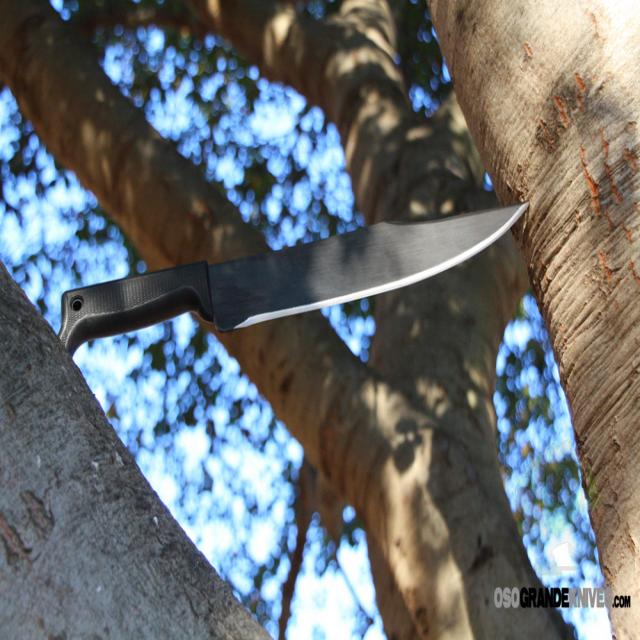knife: (52, 198, 539, 381)
